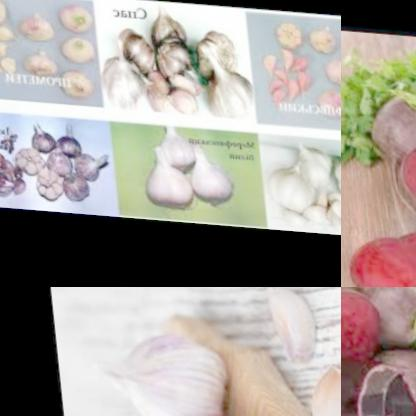beet: (341, 231, 416, 287), (364, 82, 416, 162), (354, 287, 416, 345), (341, 287, 385, 358), (375, 341, 416, 415), (390, 135, 416, 211), (390, 218, 416, 287)
garlic: (96, 2, 244, 116), (79, 315, 226, 416), (6, 113, 106, 203), (263, 135, 341, 231), (249, 287, 322, 355), (251, 34, 313, 105), (138, 139, 199, 210), (180, 143, 231, 203), (304, 344, 341, 416), (148, 120, 200, 164), (56, 30, 97, 66), (14, 7, 55, 43), (51, 1, 94, 35), (17, 43, 57, 76), (306, 78, 341, 115), (305, 17, 338, 53), (0, 17, 17, 84), (59, 66, 94, 98), (0, 152, 21, 197), (318, 49, 341, 84), (276, 15, 299, 40)
